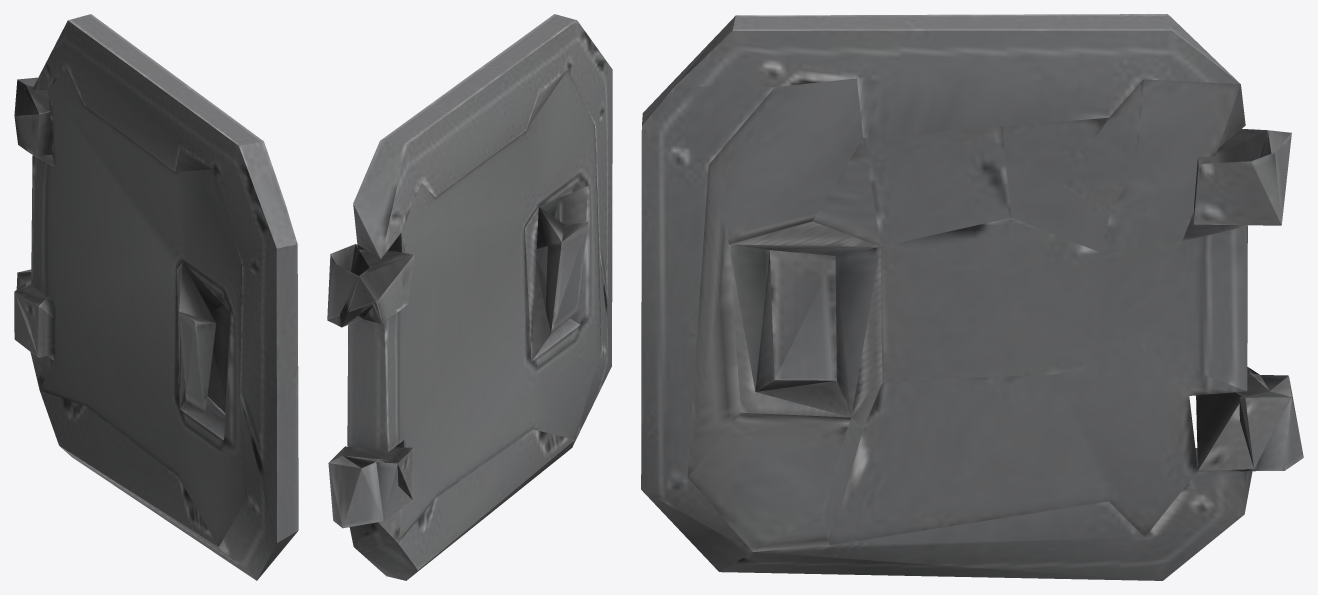
The model's file is shared_escape_pod__hatch_lod2.glb.
3 views of the same model, side by side, from view 1: azimuth 30°, elevation 25°; view 2: azimuth 150°, elevation 25°; view 3: azimuth 270°, elevation 25° (orthographic). The views are drawn at different scales.
Parts seen in each view (by area): view 1: mesh_node; view 2: mesh_node; view 3: mesh_node.
Boxes of the visible parts, x1,y1,x2,y2 form: mesh_node: [14, 14, 298, 580]; mesh_node: [327, 14, 612, 580]; mesh_node: [641, 14, 1303, 580].
Bounding box in the file's own units: 0.2587 × 1.54 × 1.67.
Materials: 1 (1 with a texture image).
